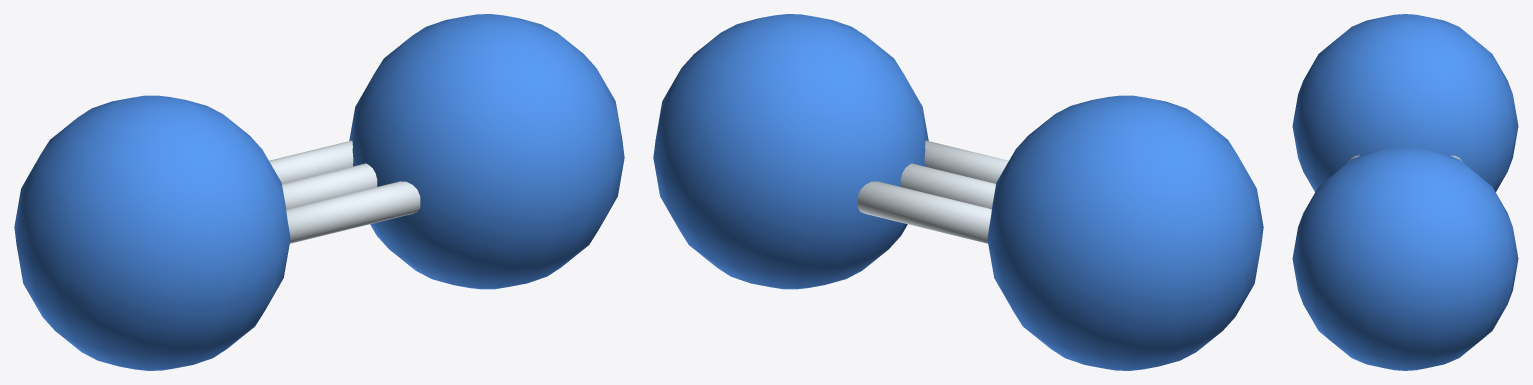
The model's file is nitrogen-molecule-lite.glb.
The picture shows the model from 3 angles, left to right: view 1: azimuth 30°, elevation 25°; view 2: azimuth 150°, elevation 25°; view 3: azimuth 270°, elevation 25°; orthographic projection. The views are drawn at different scales.
Parts seen in each view (by area): view 1: Atom; view 2: Atom; view 3: Atom.
Part boxes in pixels (box(x1,y1,x2,y2)): Atom: box(14, 14, 624, 370); Atom: box(653, 14, 1263, 370); Atom: box(1292, 14, 1518, 370).
Bounding box in the file's own units: 1.72 × 0.72 × 0.72.
